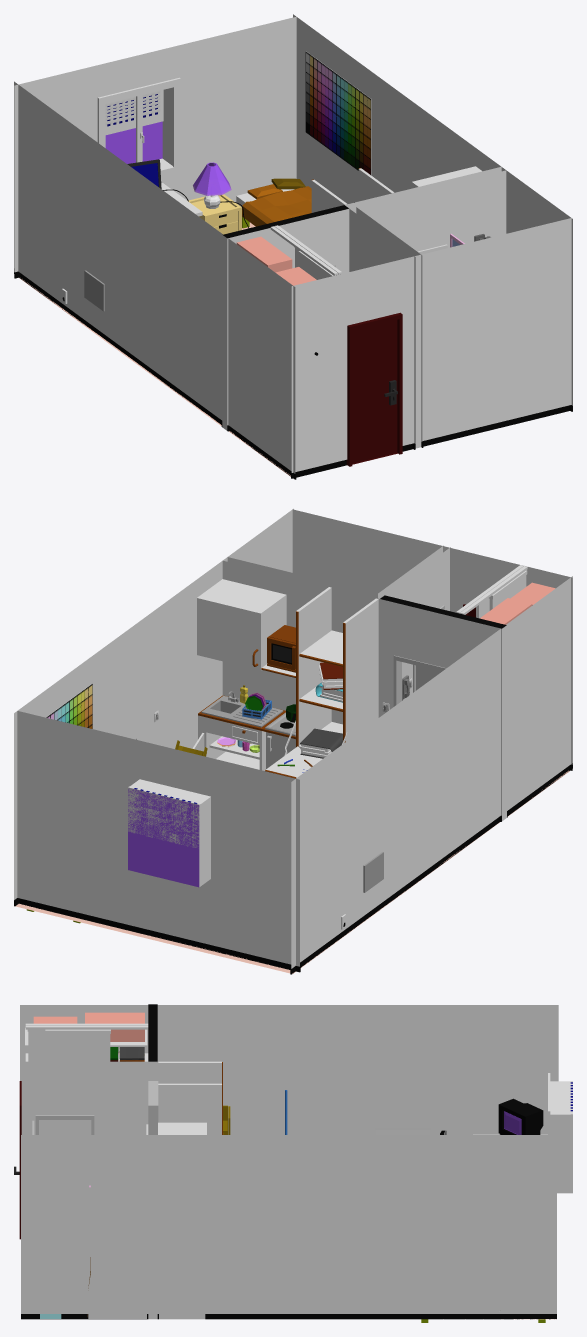
Rendered from room.glb.
3 views of the same model, one above another, from view 1: azimuth 30°, elevation 25°; view 2: azimuth 150°, elevation 25°; view 3: azimuth 270°, elevation 25° (orthographic). The views are drawn at different scales.
Parts seen in each view (by area): view 1: murs_57, poster_40, lit_10, penderie_36, chevet_28, meuble fourni_14, radiateur_18; view 2: murs_57, meuble fourni_14, meuble dessus evier_16, evier cuisiniere_12, penderie_36, sol_56, micro-onde_35, poster_40, cahier 1_34, cahiers 2_33, frigo_11, radiateur_18 (+1 smaller); view 3: murs_57, poster_40, penderie_36, meuble fourni_14, TV_15, meuble dessus evier_16, vetements_47.
Part boxes in pixels (x1,y1,x2,y2): murs_57: [14, 14, 572, 479]; poster_40: [305, 51, 371, 174]; lit_10: [236, 178, 311, 228]; penderie_36: [236, 225, 341, 355]; chevet_28: [188, 162, 241, 234]; meuble fourni_14: [311, 168, 394, 212]; radiateur_18: [84, 270, 104, 311]; murs_57: [14, 508, 572, 974]; meuble fourni_14: [265, 587, 378, 778]; meuble dessus evier_16: [197, 579, 295, 677]; evier cuisiniere_12: [192, 691, 295, 770]; penderie_36: [456, 565, 555, 624]; sol_56: [15, 770, 569, 973]; micro-onde_35: [267, 625, 295, 672]; poster_40: [46, 683, 92, 728]; cahier 1_34: [299, 728, 342, 758]; cahiers 2_33: [315, 662, 342, 702]; frigo_11: [266, 732, 295, 768]; radiateur_18: [363, 852, 383, 892]; murs_57: [14, 1004, 572, 1319]; poster_40: [407, 1161, 532, 1238]; penderie_36: [25, 1012, 148, 1134]; meuble fourni_14: [158, 1061, 222, 1134]; TV_15: [498, 1098, 543, 1134]; meuble dessus evier_16: [158, 1122, 206, 1134]; vetements_47: [110, 1047, 144, 1061].
Size of the model in its own units: 4.16 by 2.81 by 7.41.
3 materials, 2 textured.
